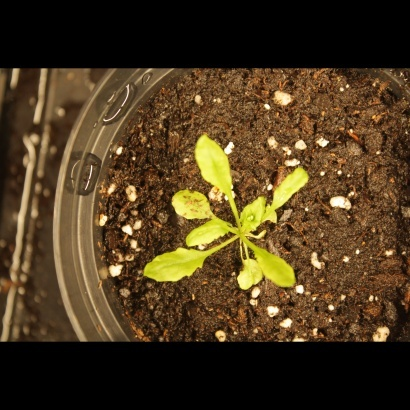leaf: (190, 130, 240, 198), (139, 247, 213, 288), (273, 162, 313, 212), (254, 246, 298, 288), (167, 187, 214, 223), (235, 190, 267, 236), (184, 220, 233, 250), (231, 255, 263, 296)
